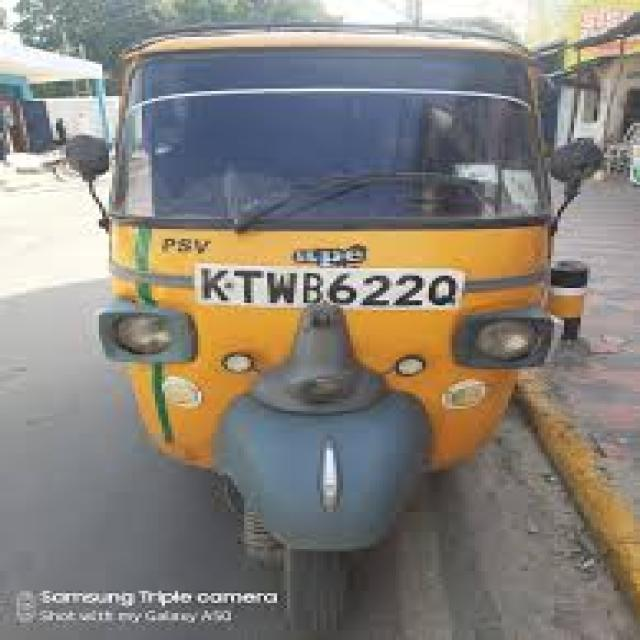tuktuk: (40, 7, 640, 640)
